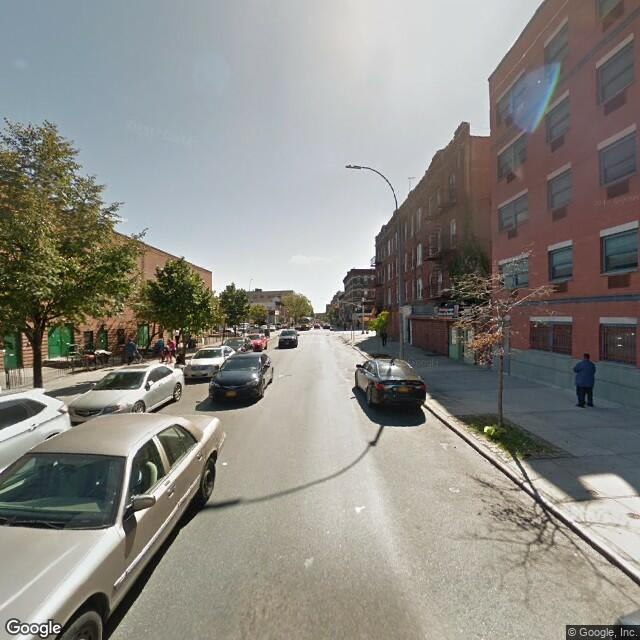litter: (481, 427, 497, 437), (220, 460, 233, 468)
